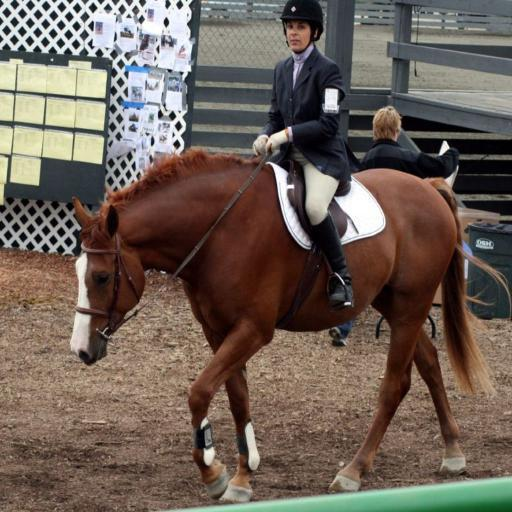horse: (68, 144, 512, 503)
